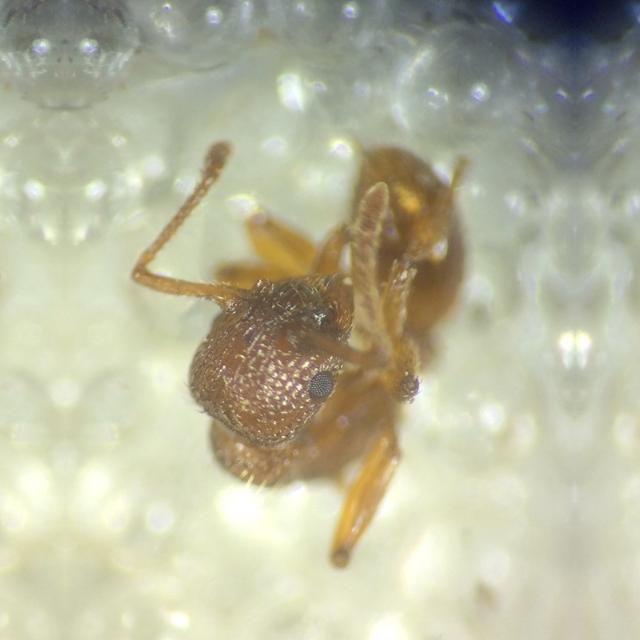Myrmica: (133, 77, 511, 563)
